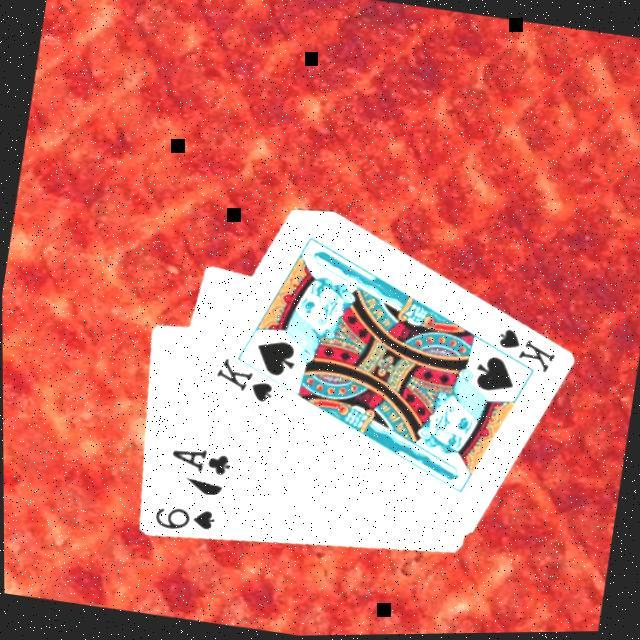6S: (150, 498, 220, 539)
AC: (167, 440, 236, 481)
KS: (480, 320, 562, 380), (210, 351, 281, 408)
